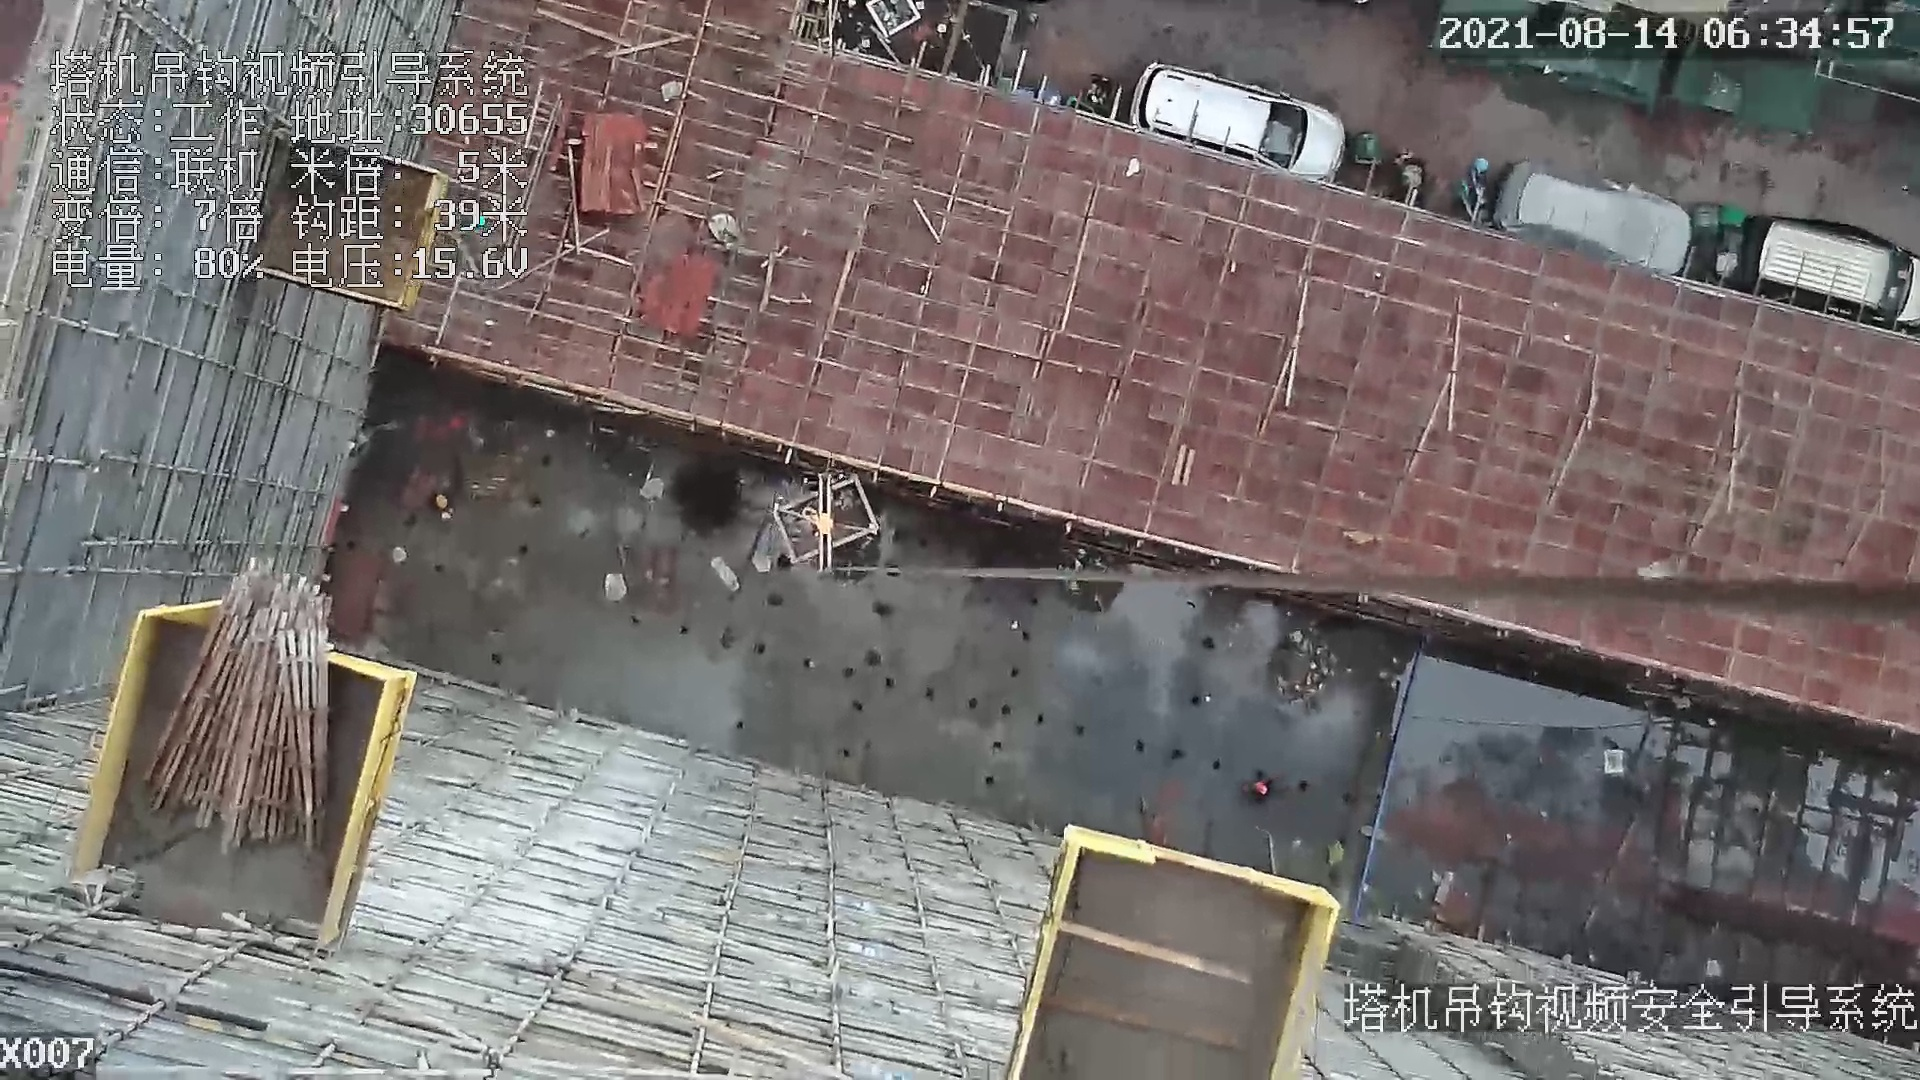hook: (804, 473, 840, 568)
hopper: (774, 473, 886, 574)
scaffold: (170, 562, 345, 856)
